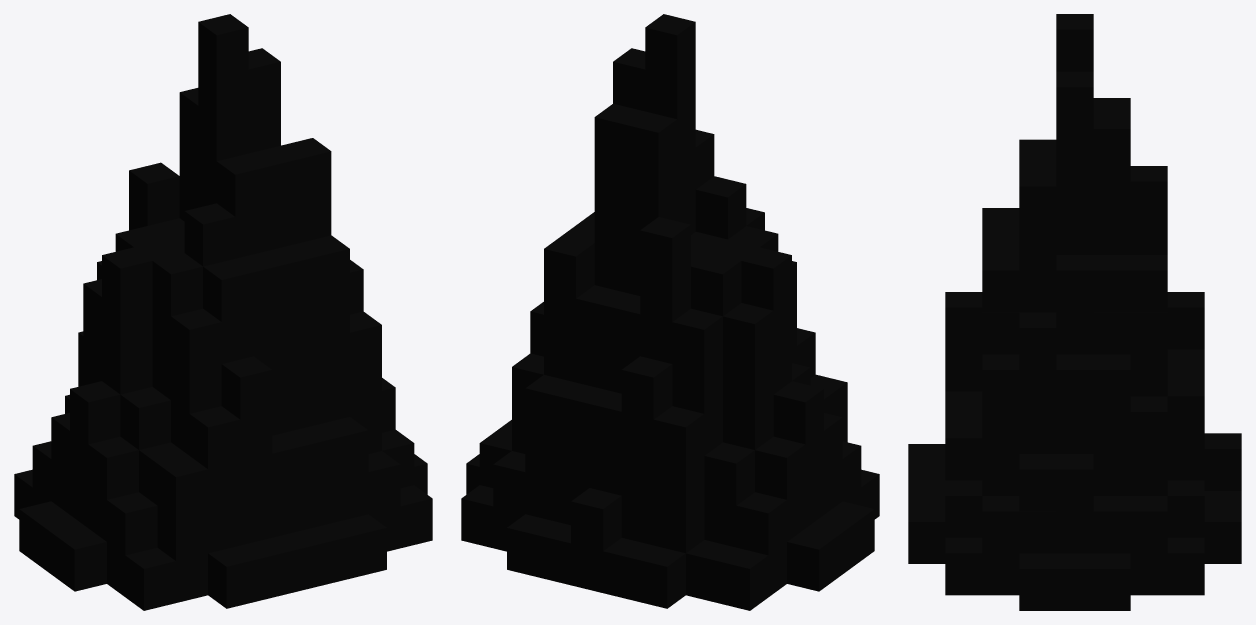
Rendered from ObsidianStackBig.obj.
The picture shows the model from 3 angles, left to right: view 1: azimuth 30°, elevation 25°; view 2: azimuth 150°, elevation 25°; view 3: azimuth 270°, elevation 25°; orthographic projection.
Visible parts, largest first — view 1: ObsidianStackBig; view 2: ObsidianStackBig; view 3: ObsidianStackBig.
Boxes of the visible parts, x1,y1,x2,y2 form: ObsidianStackBig: (14,14,432,610); ObsidianStackBig: (461,14,879,610); ObsidianStackBig: (908,14,1241,610).
Bounding box in the file's own units: 22 × 30 × 18.
